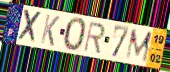7: (111, 24, 131, 60)
K: (39, 13, 61, 48)
M: (124, 29, 154, 64)
O: (62, 17, 88, 54)
R: (83, 21, 107, 56)
X: (16, 8, 43, 46)
